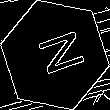N_W: (26, 28, 84, 82)
